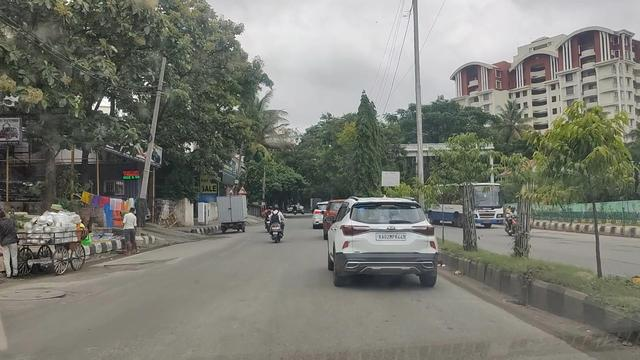LMV: (329, 197, 440, 288)
RoadDamages: (9, 277, 96, 308), (83, 252, 173, 281)
